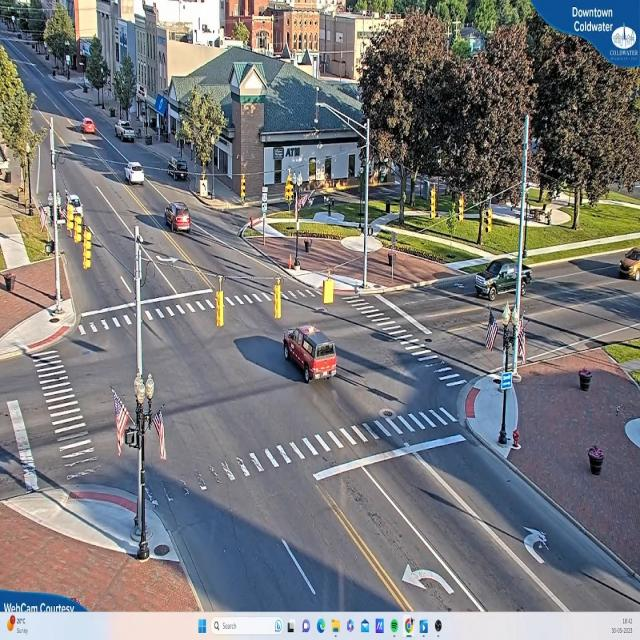car: (283, 325, 340, 382), (475, 263, 533, 302), (163, 205, 192, 233), (117, 122, 137, 144), (83, 118, 96, 136)
